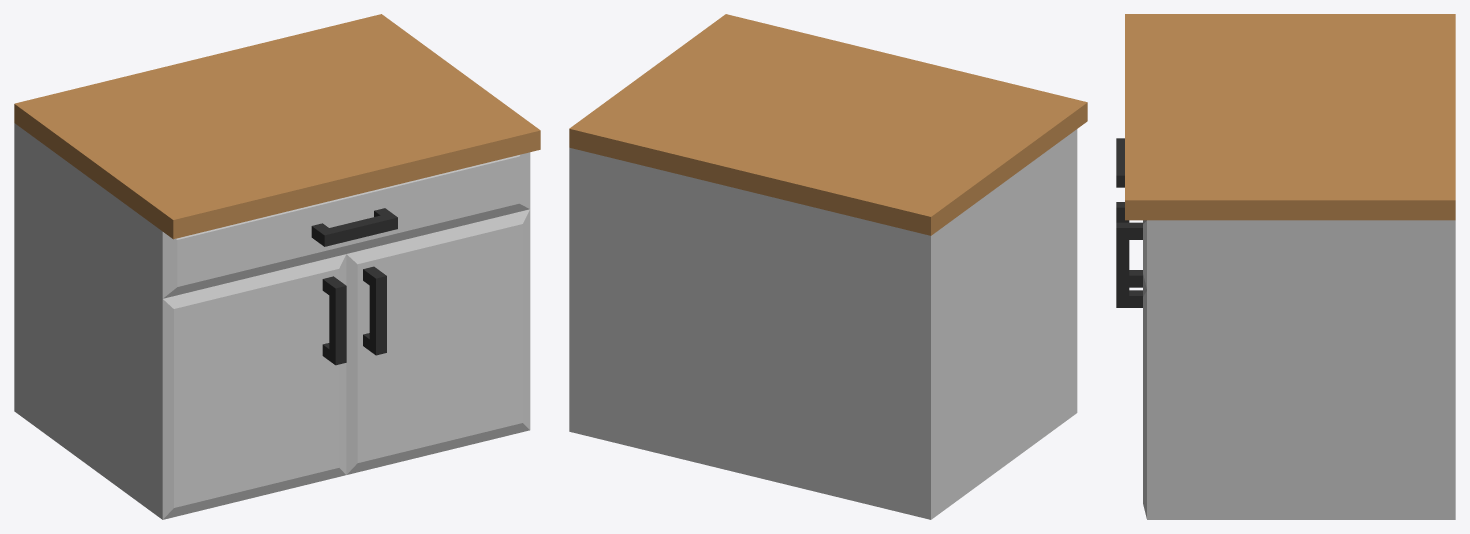
Rendered from WorkTable.fbx.
3 views of the same model, side by side, from view 1: azimuth 30°, elevation 25°; view 2: azimuth 150°, elevation 25°; view 3: azimuth 270°, elevation 25° (orthographic). The views are drawn at different scales.
Visible parts, largest first — view 1: Cube; view 2: Cube; view 3: Cube.
Part boxes in pixels (x1=…): Cube: x1=14, y1=14, x2=540, y2=519; Cube: x1=569, y1=14, x2=1087, y2=519; Cube: x1=1116, y1=14, x2=1455, y2=519.
Size of the model in its own units: 100 by 80 by 77.
